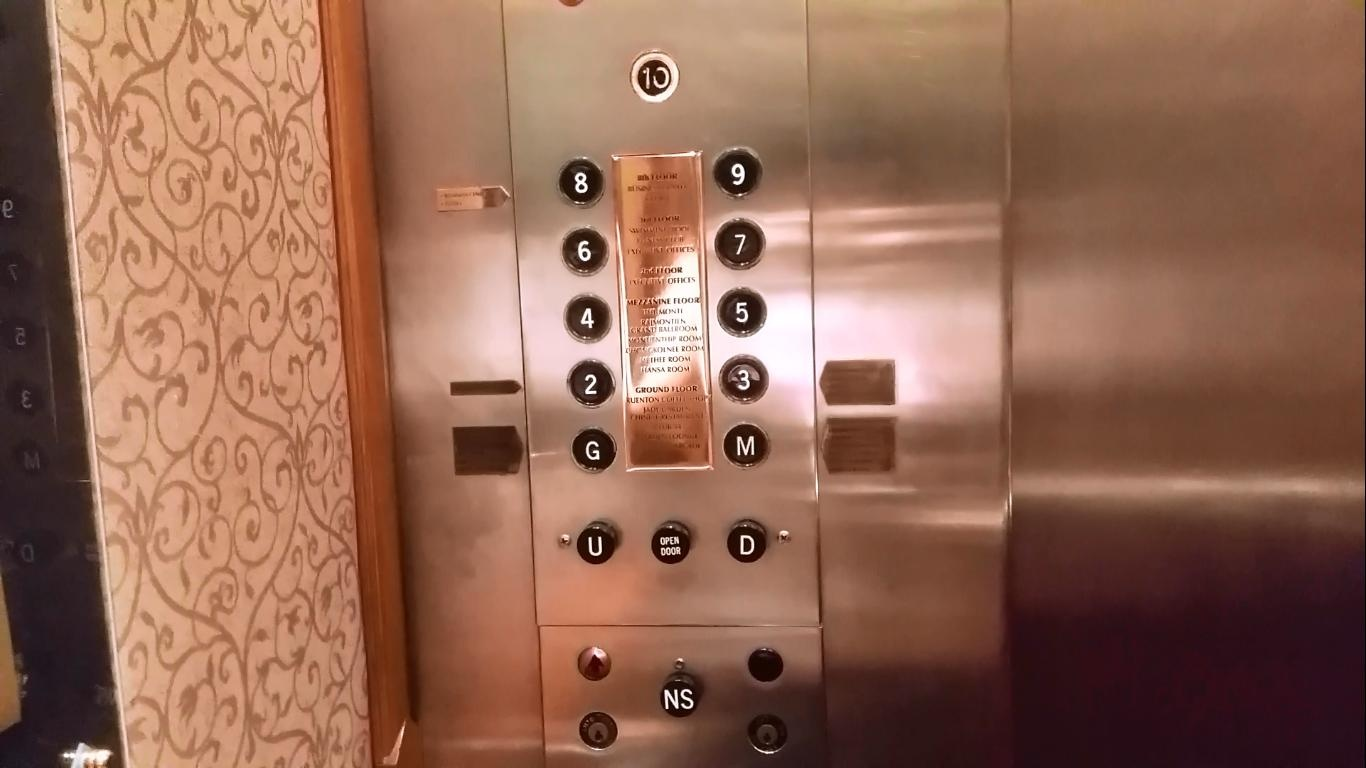10: (629, 50, 679, 103)
2: (566, 356, 616, 408)
3: (718, 356, 770, 406)
4: (562, 293, 612, 343)
5: (717, 287, 767, 338)
6: (559, 225, 610, 277)
7: (713, 217, 765, 271)
8: (556, 157, 606, 210)
9: (712, 147, 764, 200)
D: (727, 520, 768, 563)
G: (570, 427, 617, 474)
M: (720, 423, 771, 471)
NS: (654, 675, 702, 725)
U: (578, 521, 617, 564)
keyhole: (574, 707, 622, 757), (741, 710, 789, 760)
text_open: (651, 521, 692, 565)
